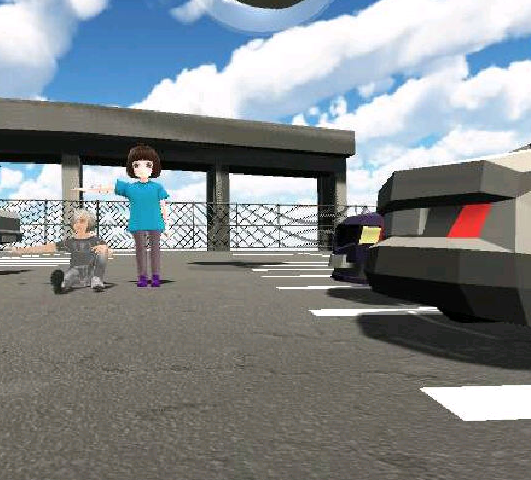doubleP_left: (1, 138, 172, 296)
